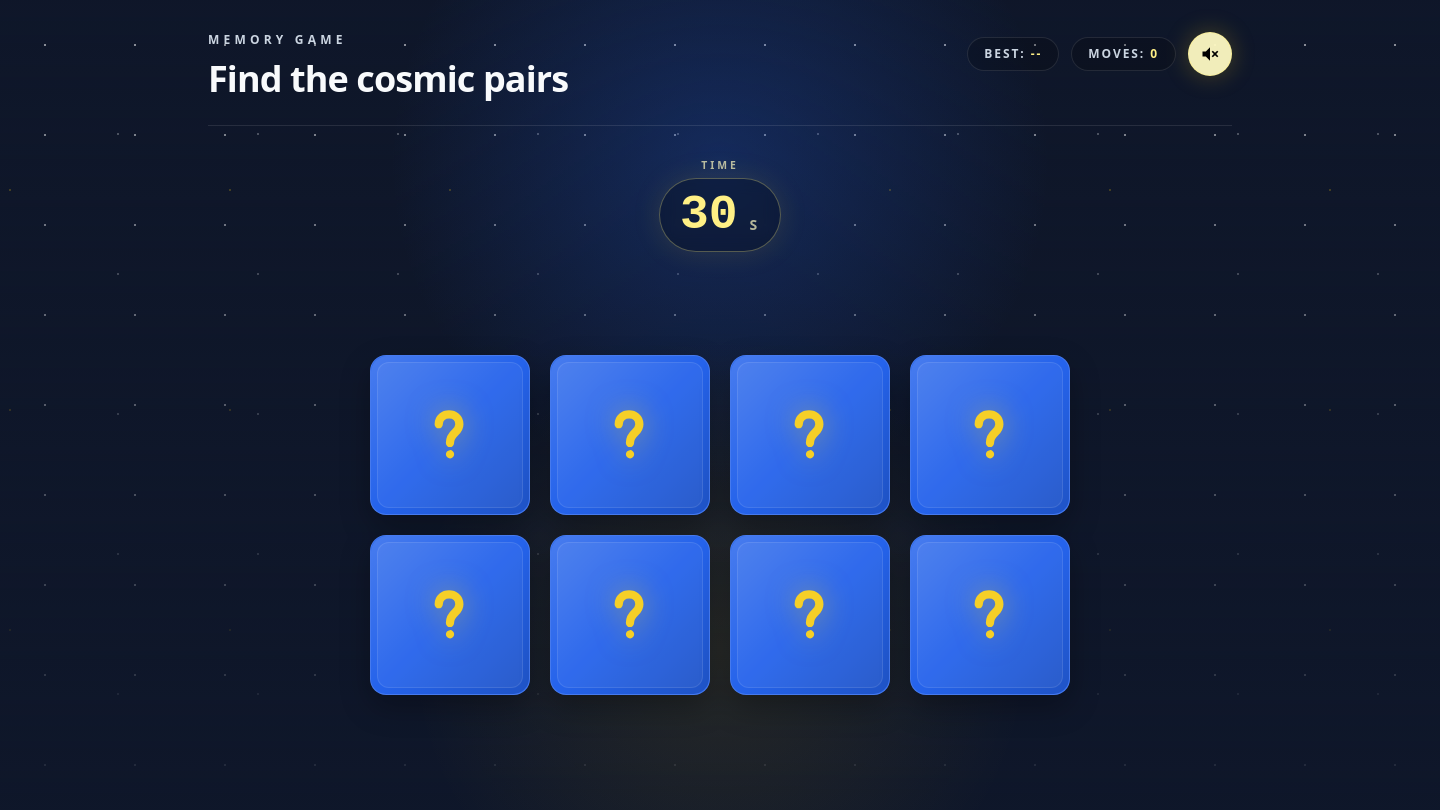
it: GameScreen › increments moves after flipping two cards
The image size is (1440, 810).
Click the button named "hidden memory card".
click(450, 435)  # box [370,355,530,515]
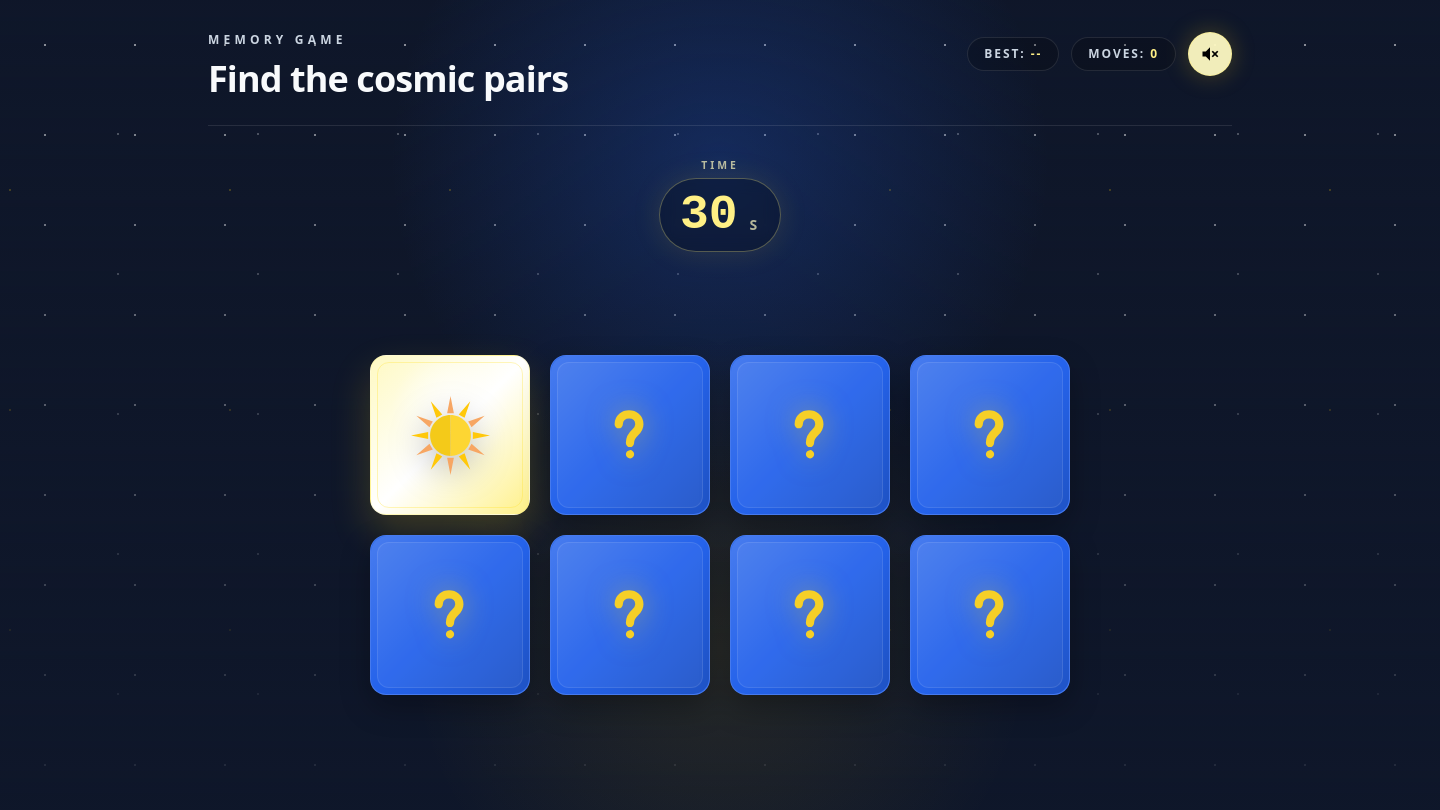
Click the button named "hidden memory card".
click(630, 435)  # box [550,355,710,515]
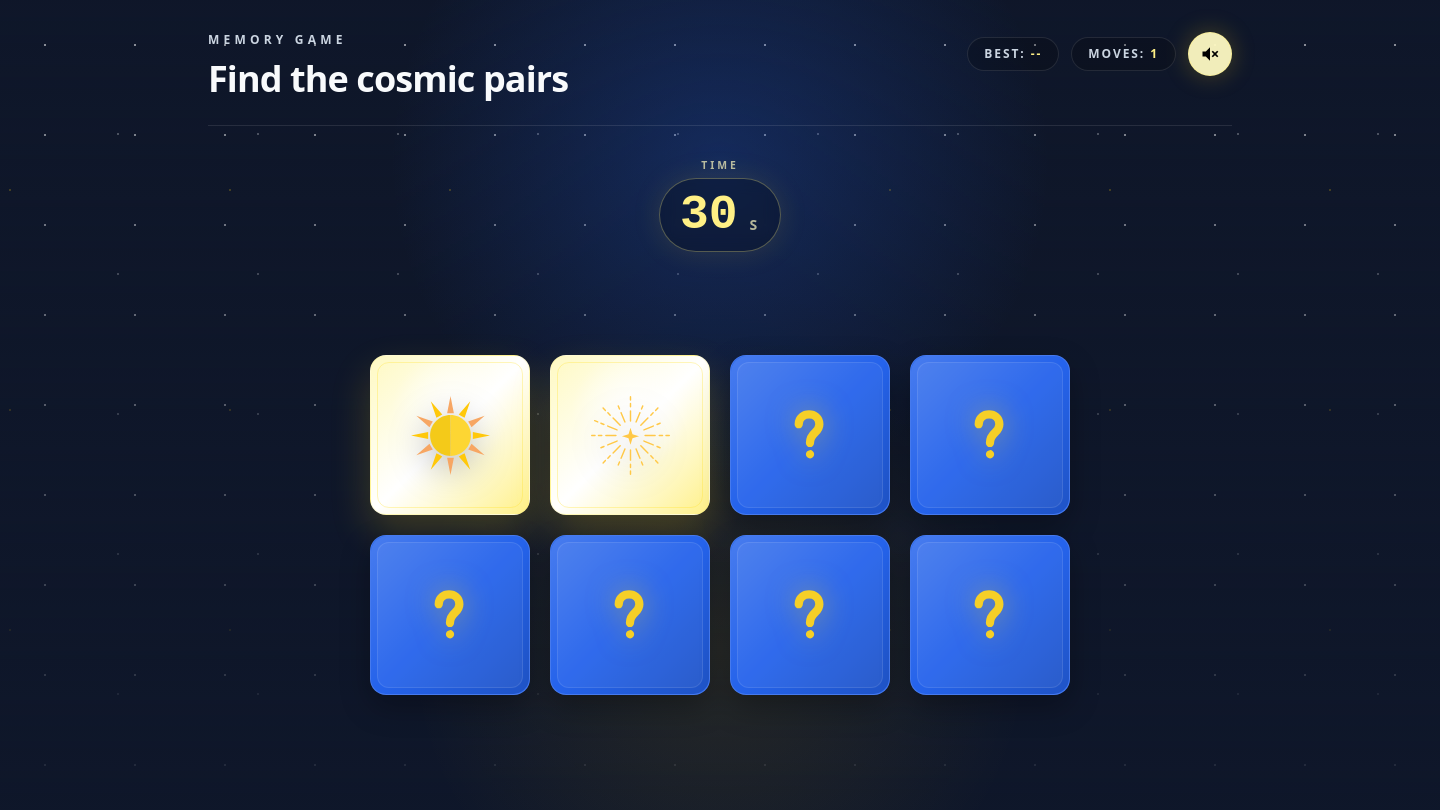
Expected: the text "Moves: 1" is shown, [1071,37,1176,71]
